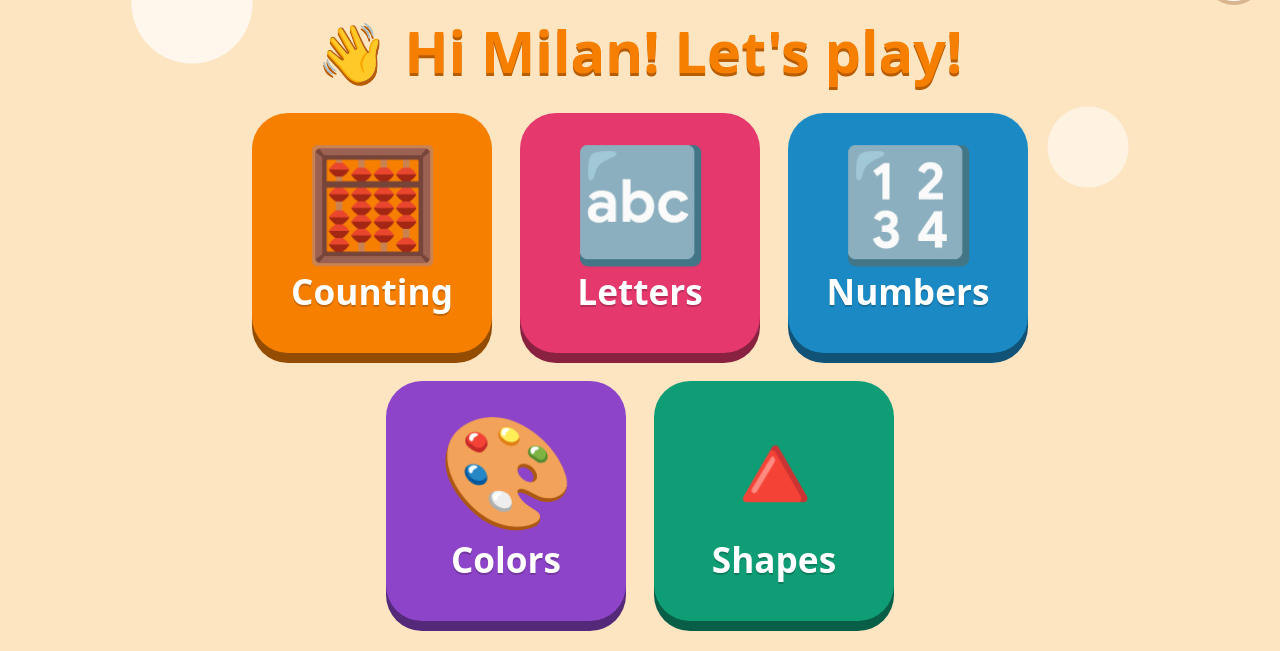
HomeScreen › opens a game with a tap sound
Click the link "🔤 Letters" at [640, 232], box x1=520 y1=112 x2=760 y2=352
(page scrolled)
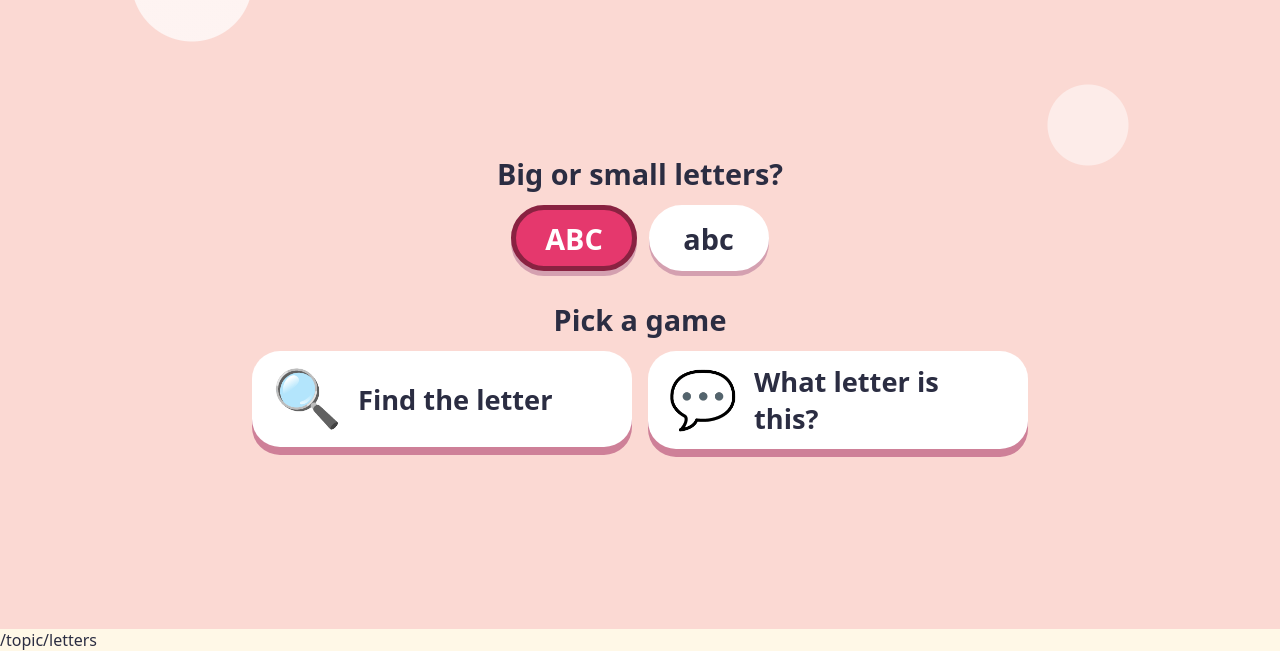
Result: the text with test id "location" reads "/topic/letters" at x1=0 y1=629 x2=97 y2=650
